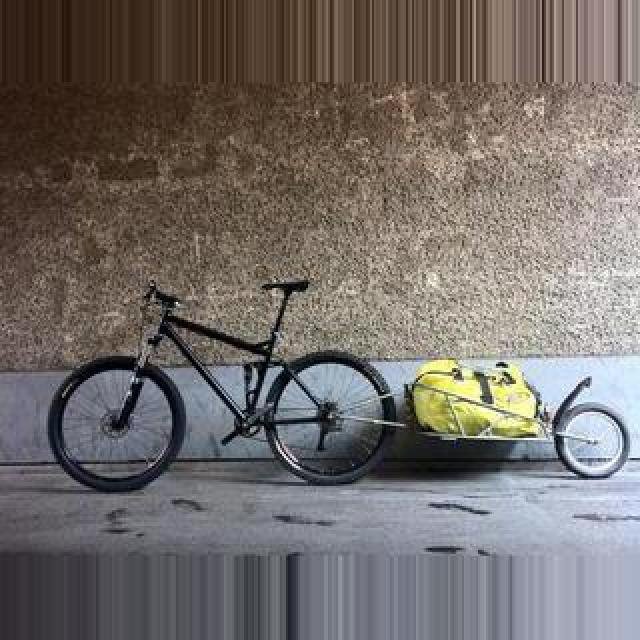Person: (45, 278, 401, 494)
